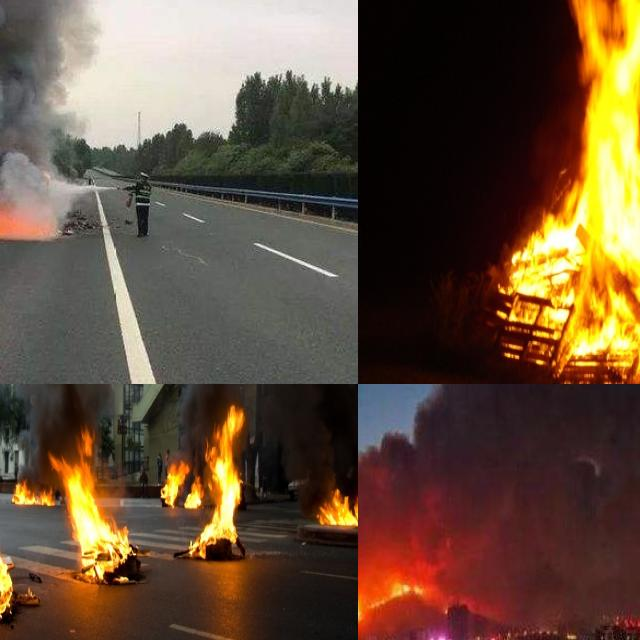fire: (486, 0, 640, 384), (50, 425, 140, 587), (163, 405, 247, 559), (0, 191, 80, 245), (358, 572, 429, 621), (318, 471, 358, 539), (11, 477, 57, 511)
smoke: (358, 384, 640, 604), (21, 384, 115, 471)
